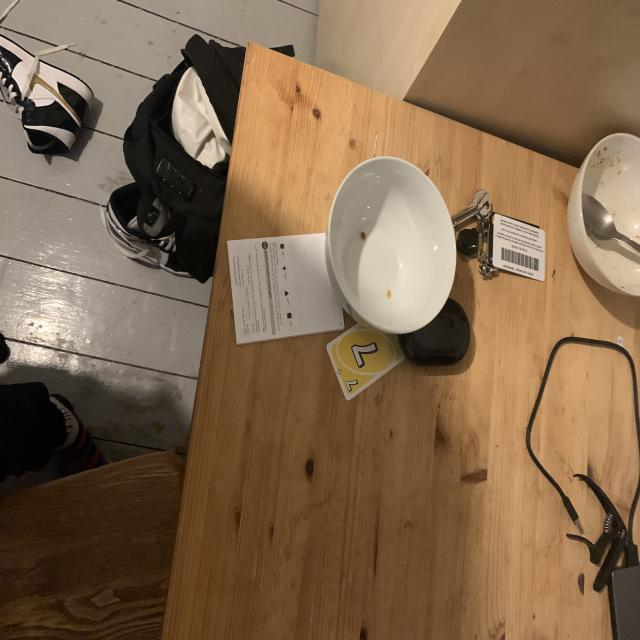lyellow-7: (343, 377, 360, 393)
